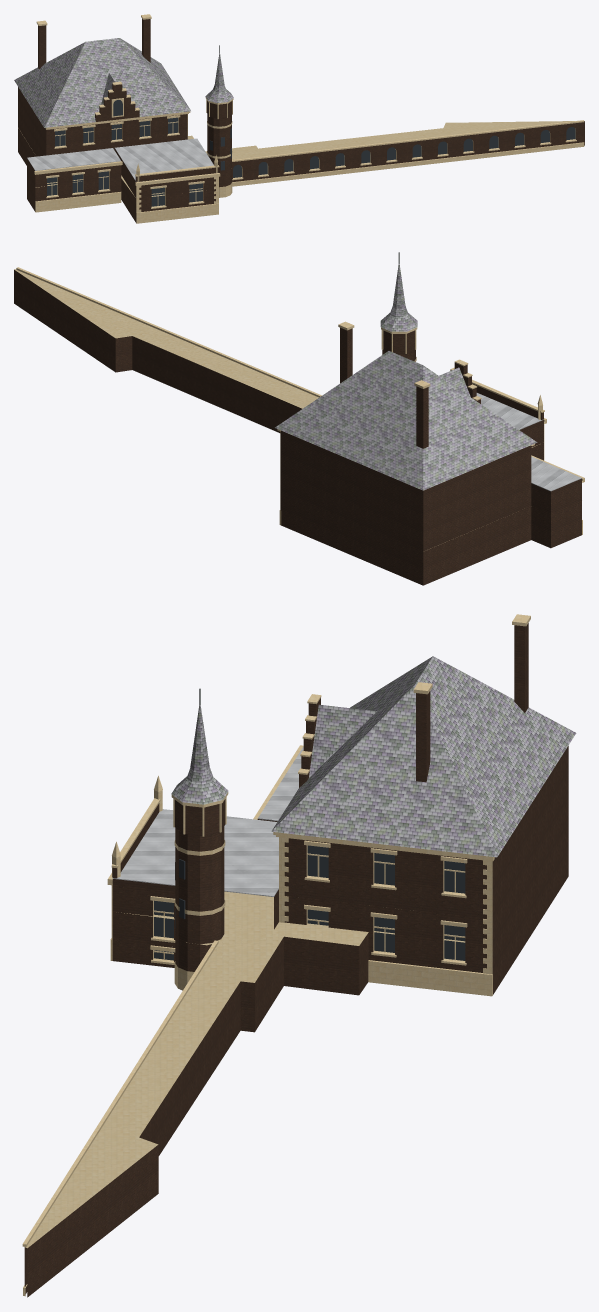
The picture shows the model from 3 angles, top to bottom: view 1: azimuth 30°, elevation 25°; view 2: azimuth 150°, elevation 25°; view 3: azimuth 270°, elevation 25°; orthographic projection. The views are drawn at different scales.
Visible parts, largest first — view 1: bldg_232921425_landmark; view 2: bldg_232921425_landmark; view 3: bldg_232921425_landmark.
Part boxes in pixels (box(x1,y1,x2,y2)): bldg_232921425_landmark: box(14, 14, 584, 223); bldg_232921425_landmark: box(14, 252, 584, 585); bldg_232921425_landmark: box(22, 614, 576, 1297).
Size of the model in its own units: 61.32 by 17.9 by 30.53.
Materials: 7 (5 with a texture image).
